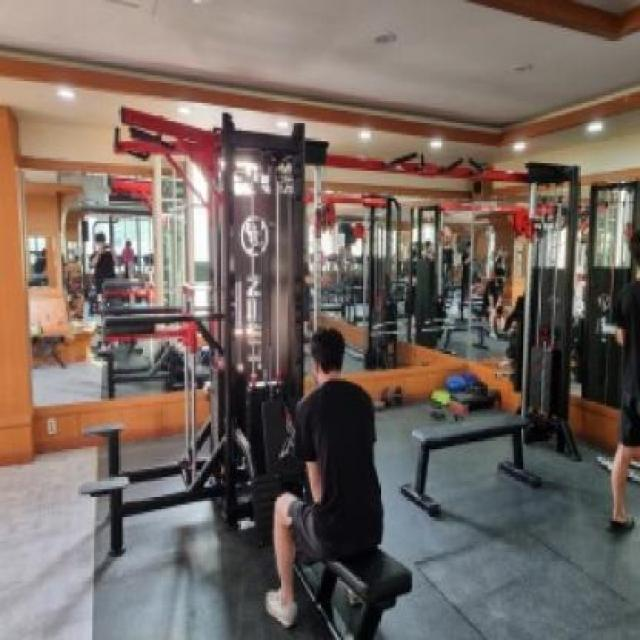Seated Cable Rows: (122, 277, 436, 640)
